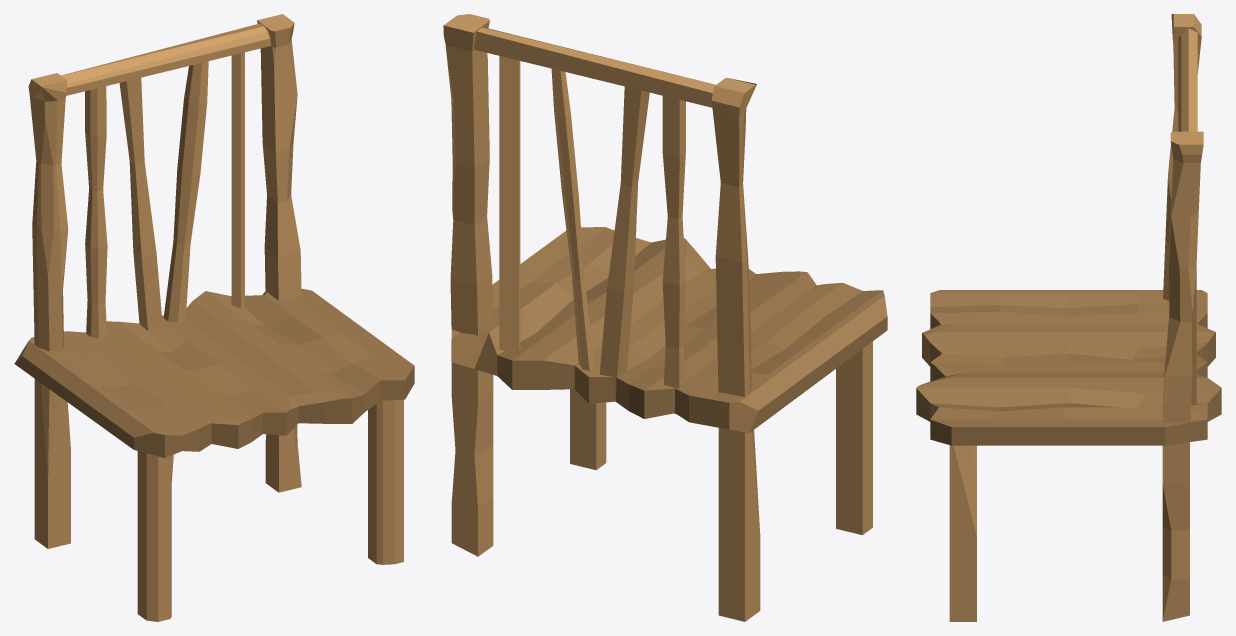
File: Chair_3_White.fbx
3 renders of one model, left to right at view 1: azimuth 30°, elevation 25°; view 2: azimuth 150°, elevation 25°; view 3: azimuth 270°, elevation 25°, orthographic. The views are drawn at different scales.
Parts seen in each view (by area): view 1: Cube.244, Cube.240, Cube.241, Cube.243, Cube.242, Cube.248, Cube.249, Cube.246, Cube.245, Cube.247; view 2: Cube.244, Cube.241, Cube.240, Cube.249, Cube.242, Cube.247, Cube.246, Cube.245, Cube.248, Cube.243; view 3: Cube.244, Cube.241, Cube.243, Cube.245, Cube.240, Cube.247.
Part boxes in pixels (x1,y1,x2,y2): Cube.244: [14, 288, 414, 457]; Cube.240: [28, 73, 70, 548]; Cube.241: [257, 14, 301, 492]; Cube.243: [368, 399, 403, 564]; Cube.242: [137, 451, 173, 621]; Cube.248: [163, 61, 208, 322]; Cube.249: [119, 77, 162, 331]; Cube.246: [85, 86, 107, 338]; Cube.245: [61, 23, 270, 95]; Cube.247: [231, 52, 244, 307]; Cube.244: [451, 227, 887, 433]; Cube.241: [443, 14, 493, 556]; Cube.240: [711, 77, 760, 621]; Cube.249: [599, 86, 649, 399]; Cube.242: [836, 341, 872, 535]; Cube.247: [499, 56, 520, 350]; Cube.246: [662, 96, 685, 414]; Cube.245: [474, 27, 715, 107]; Cube.248: [551, 68, 594, 370]; Cube.243: [570, 389, 606, 470]; Cube.244: [916, 290, 1221, 445]; Cube.241: [1162, 131, 1203, 621]; Cube.243: [949, 445, 976, 621]; Cube.245: [1178, 28, 1197, 131]; Cube.240: [1163, 14, 1201, 300]; Cube.247: [1191, 267, 1196, 404].
Bounding box in the file's own units: 274 × 433 × 251.
